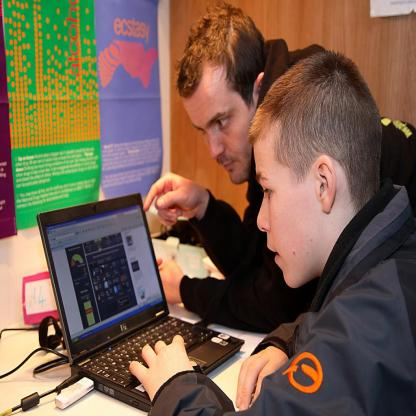board: (30, 196, 231, 410)
